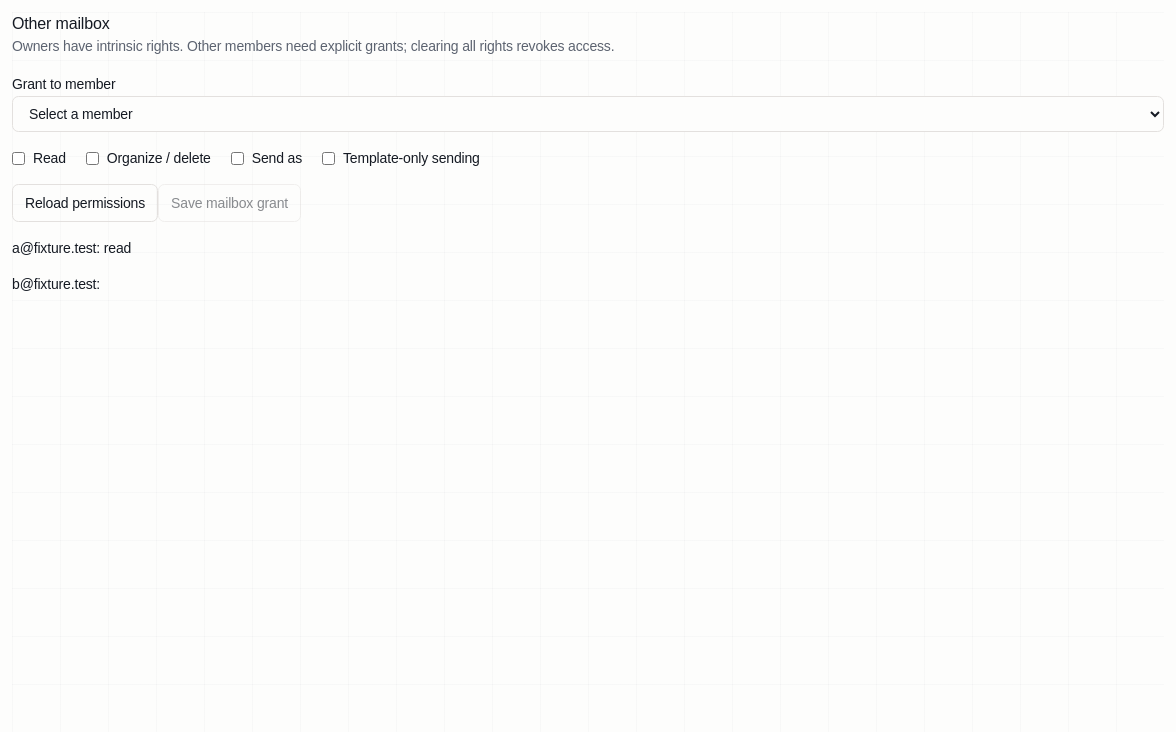
it: mailbox grant save ownership and acknowledged readback › keeps an acknowledged save visible when its following permission GET fails
Expected: the text "a@fixture.test: read" is shown, [12,240,131,256]
Select "A · a@fixture.test" in the dropdown labelled "Grant to member" at (588, 114), box [12,96,1164,132]
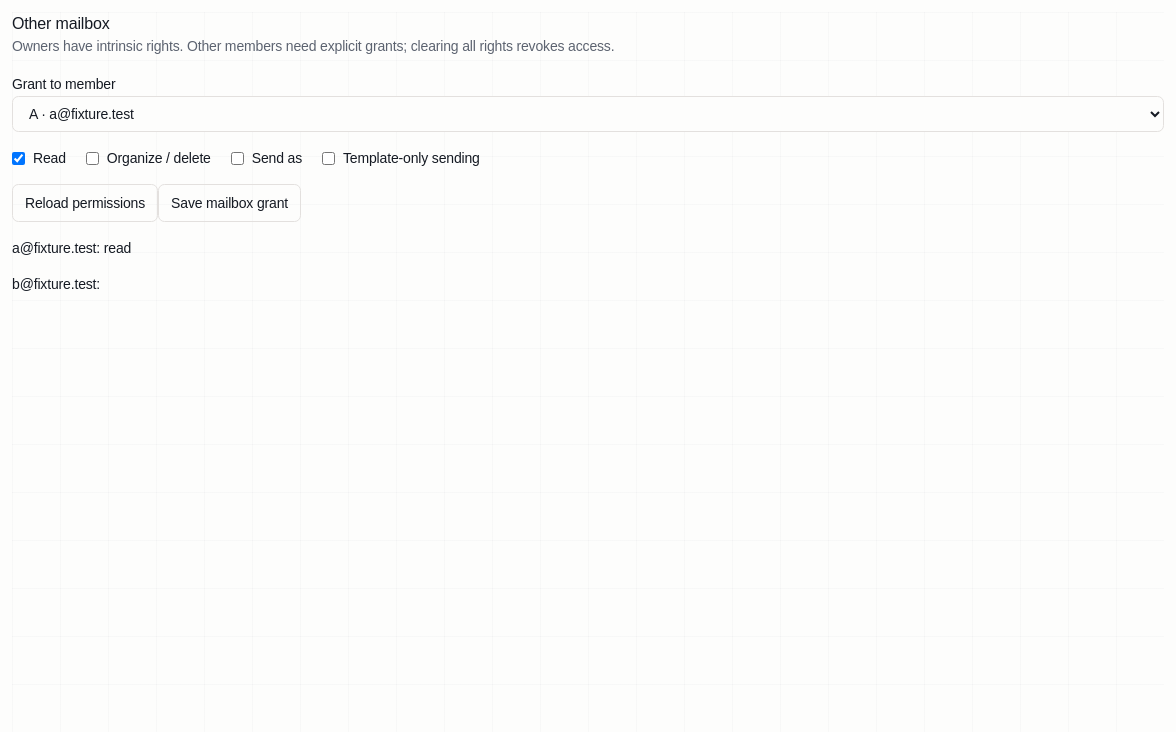
Click the button "Save mailbox grant" at (230, 203), box [158,184,301,222]
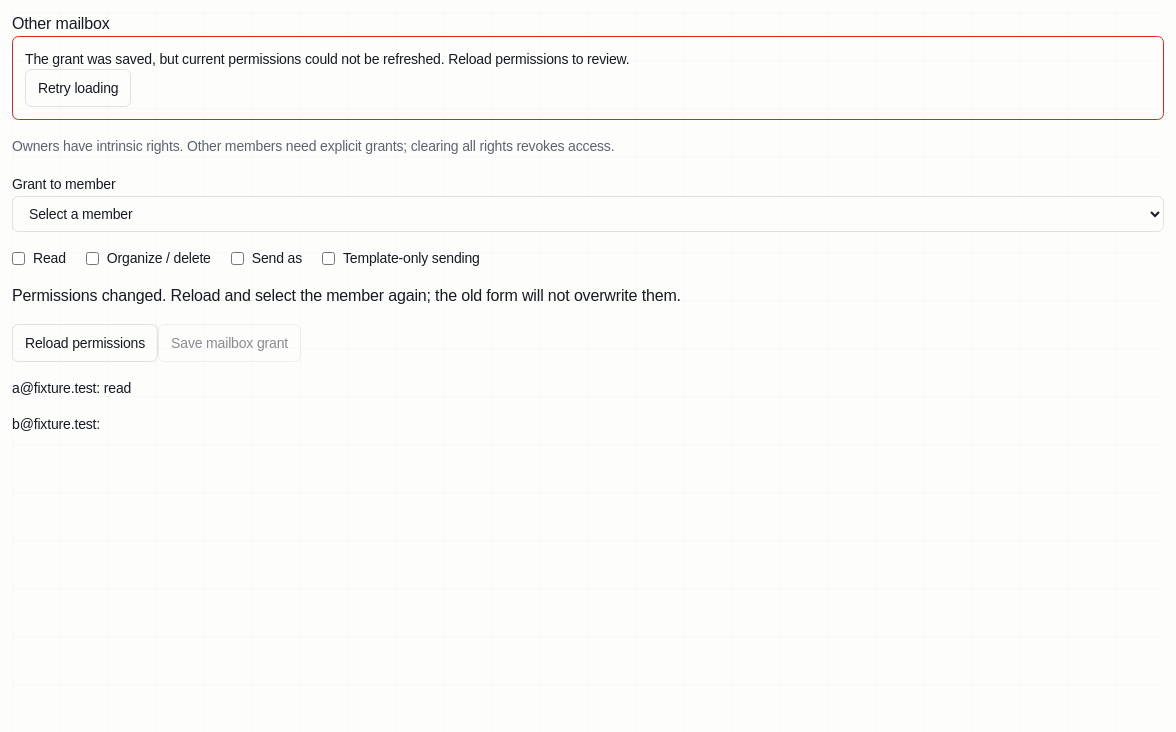
Now the text "The grant was saved, but current permissions could not be refreshed" is shown, box [25,51,630,67]
Select "B · b@fixture.test" in the dropdown labelled "Grant to member" at (588, 214), box [12,196,1164,232]
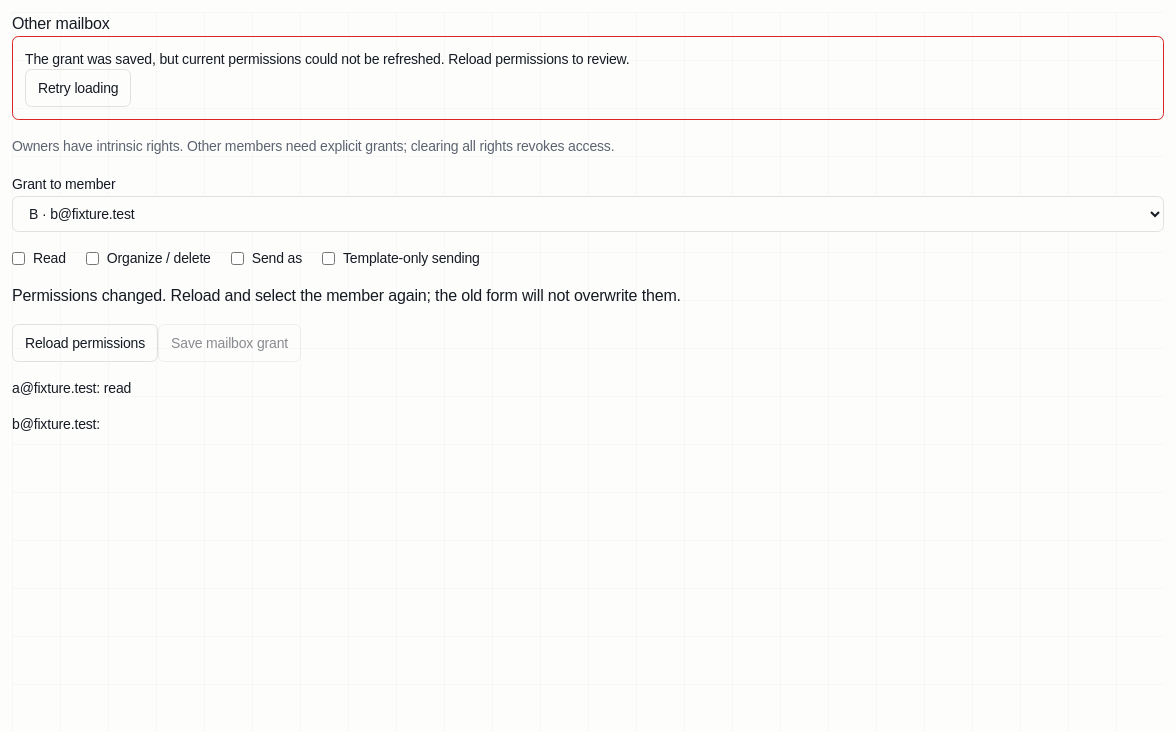
Now the button "Save mailbox grant" is disabled, box [158,324,301,362]
Click the button "Reload permissions" at (85, 343), box [12,324,158,362]
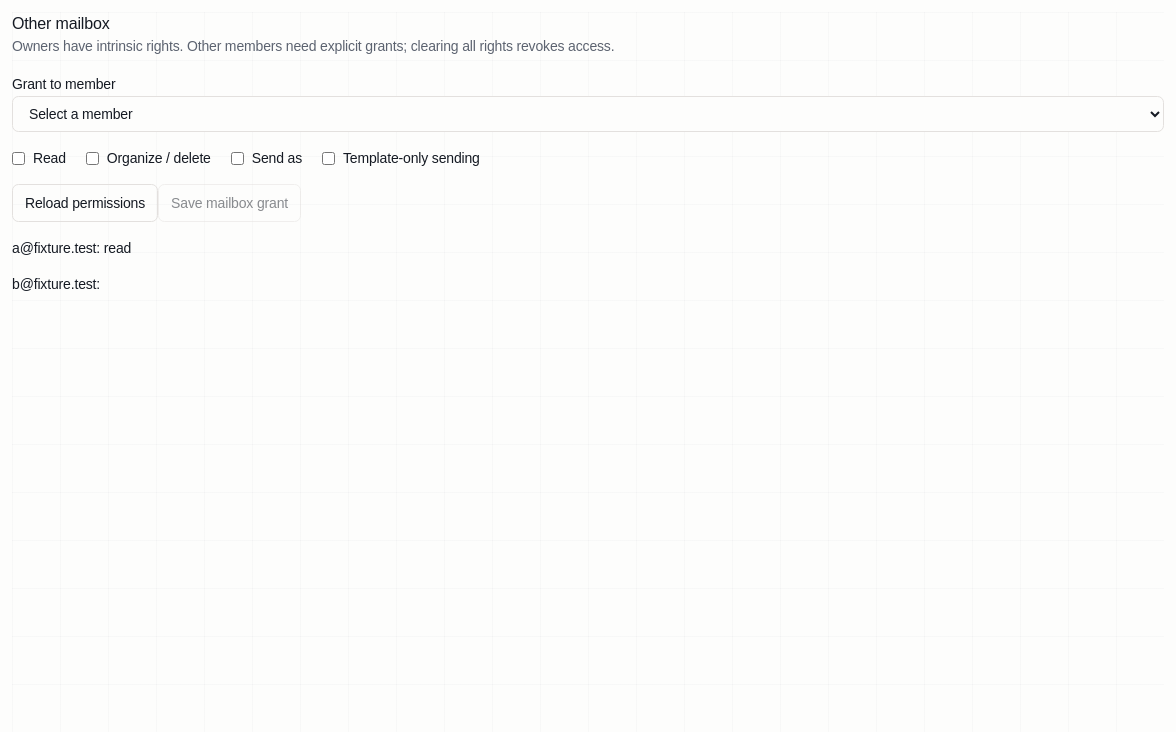
Select "B · b@fixture.test" in the dropdown labelled "Grant to member" at (588, 114), box [12,96,1164,132]
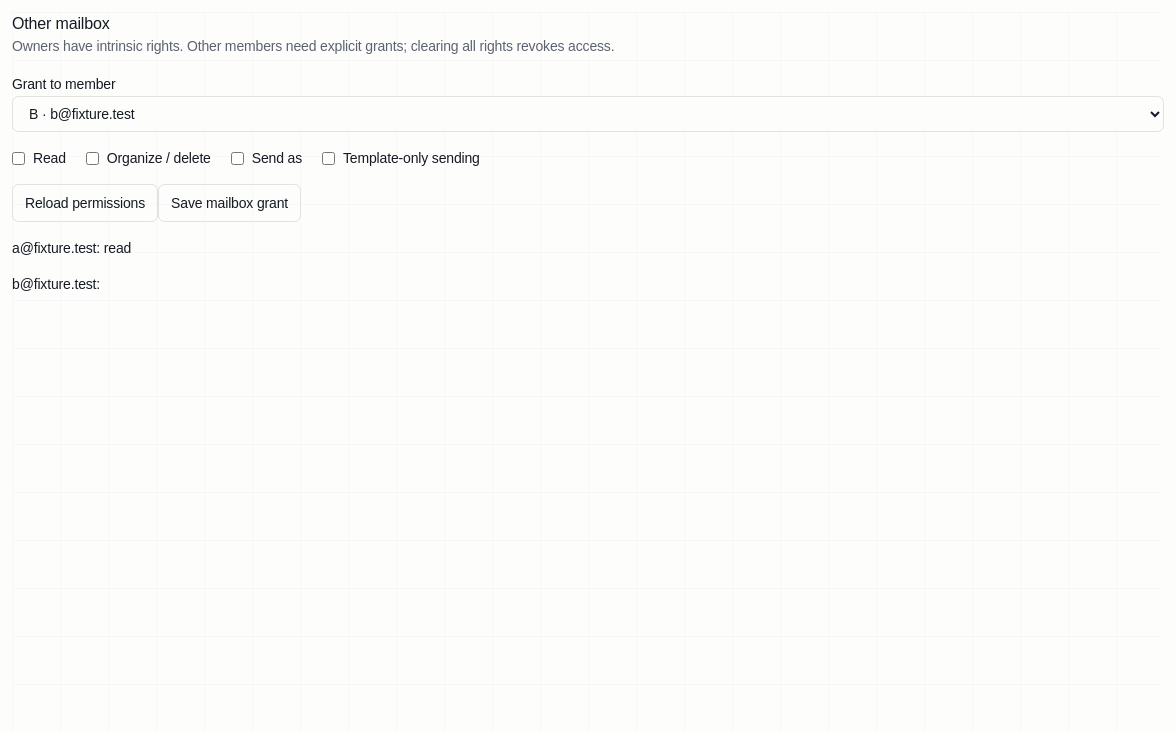
Now the button "Save mailbox grant" is enabled, box [158,184,301,222]
